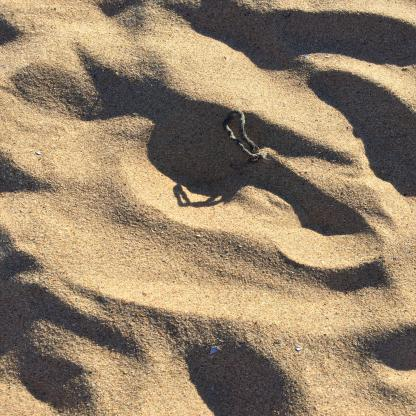diger: (221, 108, 262, 160)
